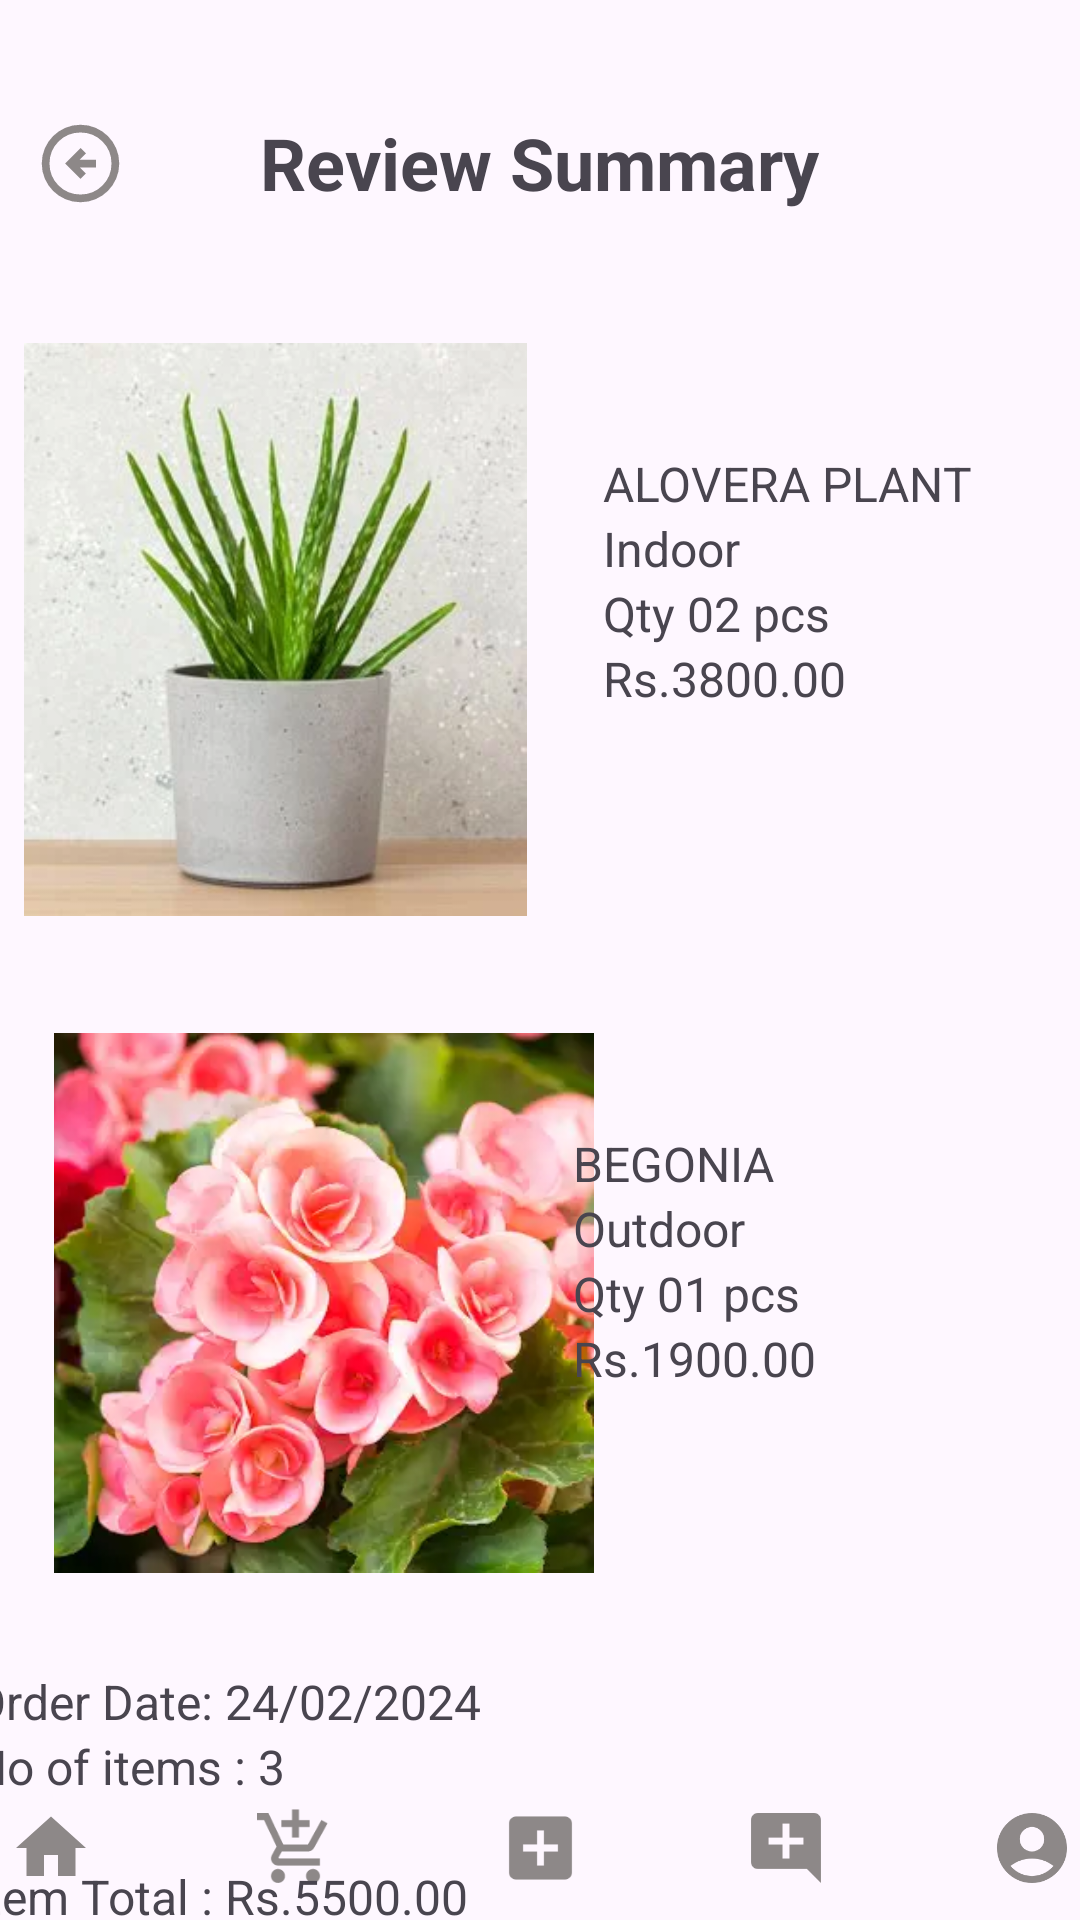

Where to tap for icons on this 1080×1920 app screen, as (x=x, y=y):
add box: (x=540, y=1848)
add comment: (x=786, y=1848)
add shopping cart: (x=266, y=1849)
arrow circle left: (x=80, y=163)
